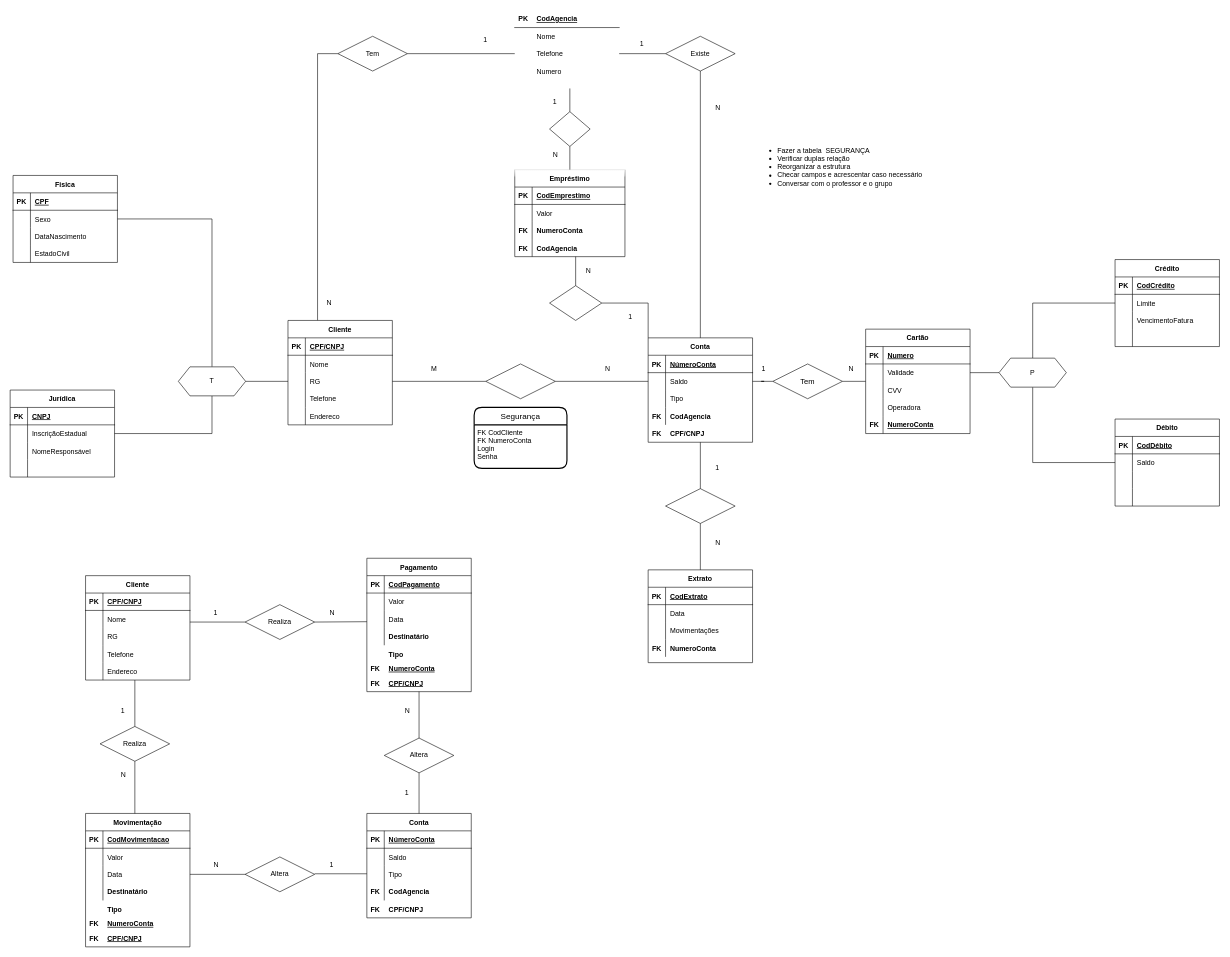
This 1230x957 diagram has some shape labels left out. Here are the shapes that lost their labels. From the top down, the centre of each, then its label:
(569,128): Fornece
(575,302): Solicita
(520,381): Poussi
(700,505): Gera
